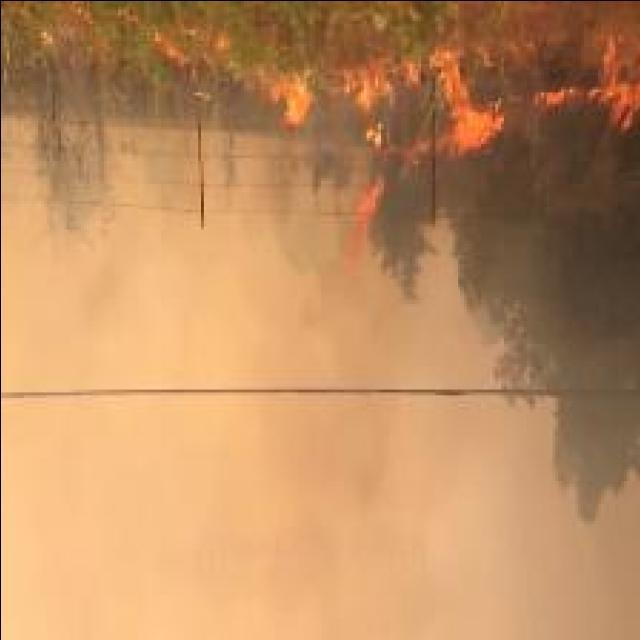Fire: (337, 42, 640, 278), (254, 63, 314, 128)
